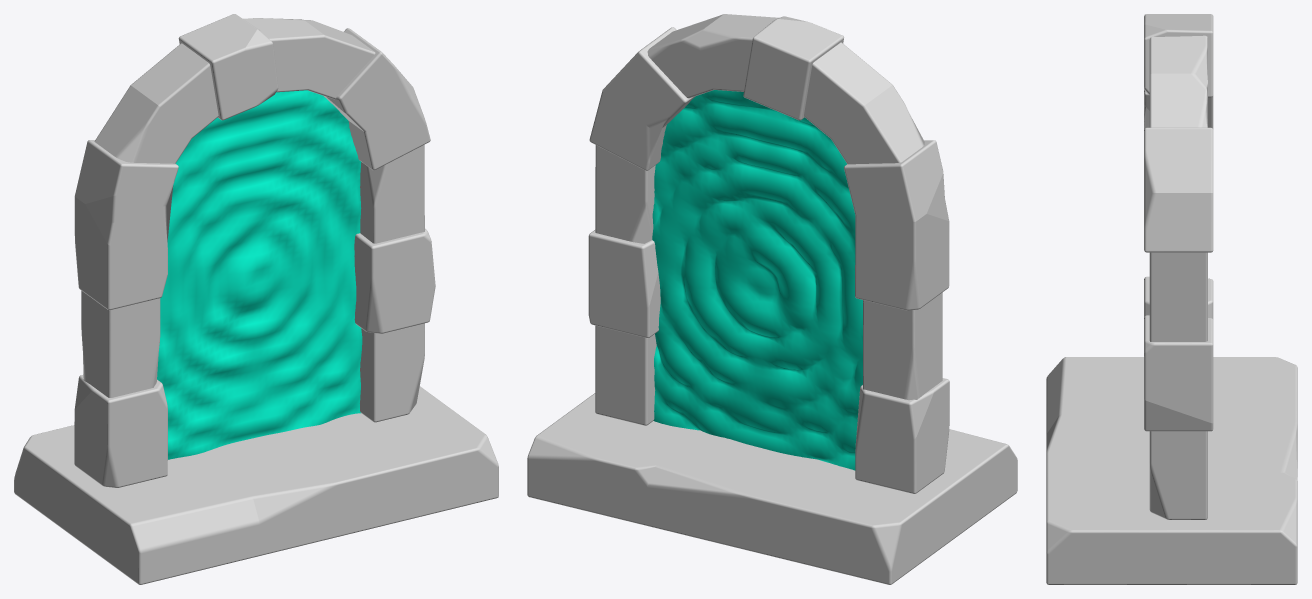
The model's file is portalMagico.fbx.
The picture shows the model from 3 angles, left to right: view 1: azimuth 30°, elevation 25°; view 2: azimuth 150°, elevation 25°; view 3: azimuth 270°, elevation 25°; orthographic projection.
Visible parts, largest first — view 1: Plane.003, Plane, Plane.001, Plane.002; view 2: Plane.003, Plane, Plane.001, Plane.002; view 3: Plane, Plane.001, Plane.002.
Boxes of the visible parts, <box> form: Plane.003: <box>157,90,362,459</box>; Plane: <box>14,386,498,584</box>; Plane.001: <box>74,14,435,487</box>; Plane.002: <box>81,18,424,422</box>; Plane.003: <box>652,90,862,470</box>; Plane: <box>527,393,1017,584</box>; Plane.001: <box>588,16,949,493</box>; Plane.002: <box>595,14,942,425</box>; Plane: <box>1046,357,1297,584</box>; Plane.001: <box>1144,14,1213,431</box>; Plane.002: <box>1149,35,1207,519</box>.
Bounding box in the file's own units: 408 × 508 × 248.
